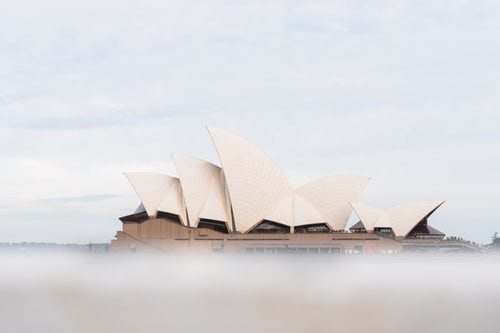opera house: (93, 123, 464, 261)
